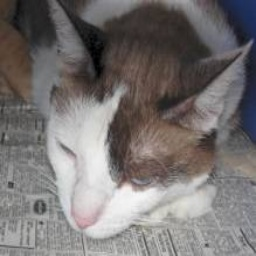cat: (21, 0, 244, 244)
